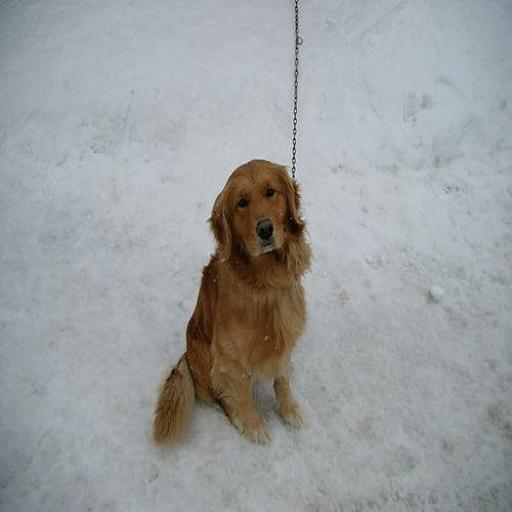dog_face: (201, 151, 305, 274)
